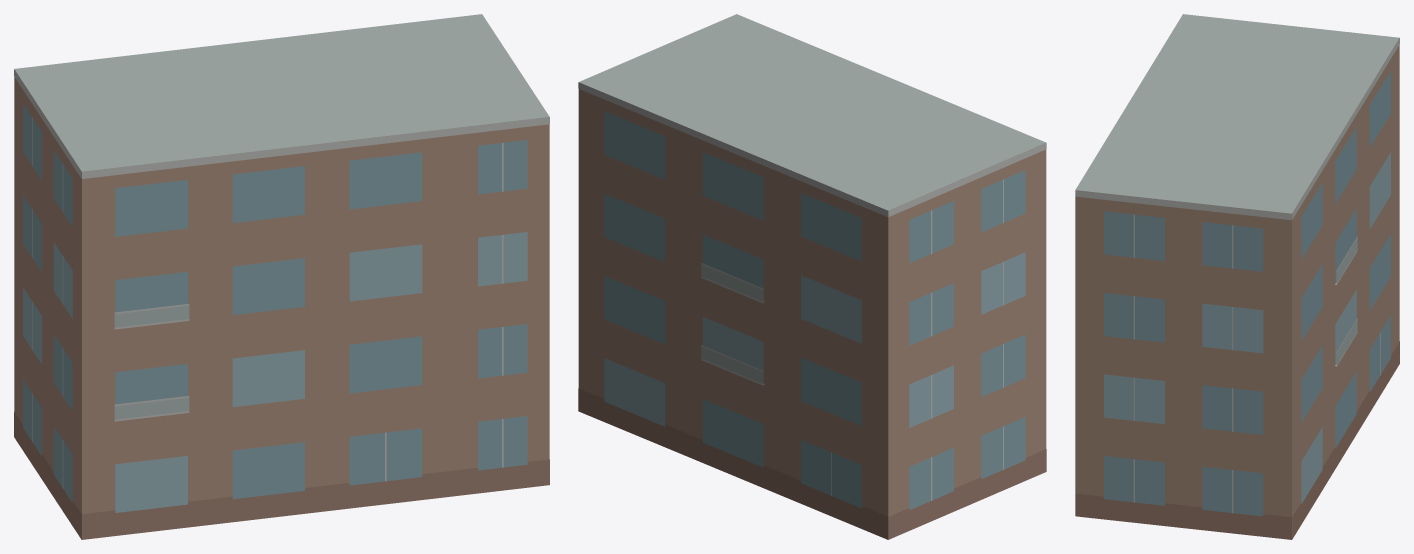
Rendered from residential-c8e67a62-6fdb-4721-abc6-0a64c0a9df45.glb.
The picture shows the model from 3 angles, left to right: view 1: azimuth 30°, elevation 25°; view 2: azimuth 150°, elevation 25°; view 3: azimuth 270°, elevation 25°; orthographic projection. The views are drawn at different scales.
Visible parts, largest first — view 1: residential-c8e67a62-6fdb-4721-abc6-0a64c0a9df45.tmp; view 2: residential-c8e67a62-6fdb-4721-abc6-0a64c0a9df45.tmp; view 3: residential-c8e67a62-6fdb-4721-abc6-0a64c0a9df45.tmp.
Part boxes in pixels (<box>): residential-c8e67a62-6fdb-4721-abc6-0a64c0a9df45.tmp: <box>14,14,549,539</box>; residential-c8e67a62-6fdb-4721-abc6-0a64c0a9df45.tmp: <box>578,14,1046,539</box>; residential-c8e67a62-6fdb-4721-abc6-0a64c0a9df45.tmp: <box>1075,14,1399,539</box>.
Bounding box in the file's own units: 16.03 × 12.2 × 11.01.
